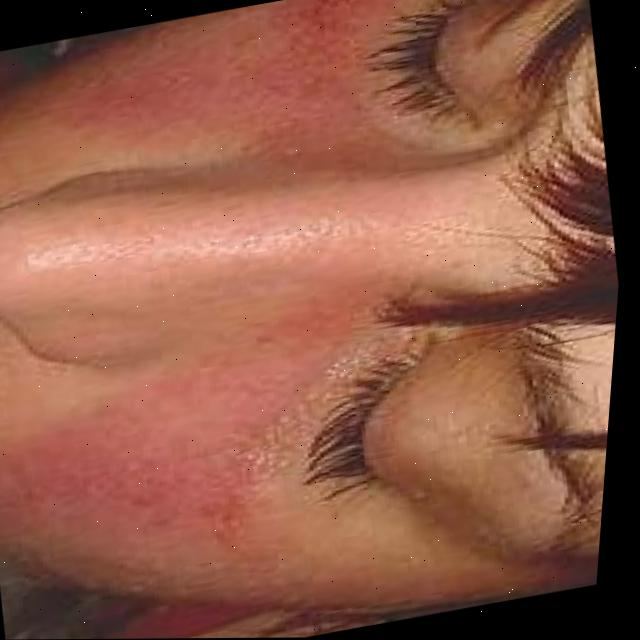Rosacea: (37, 371, 314, 549), (86, 0, 385, 159)
